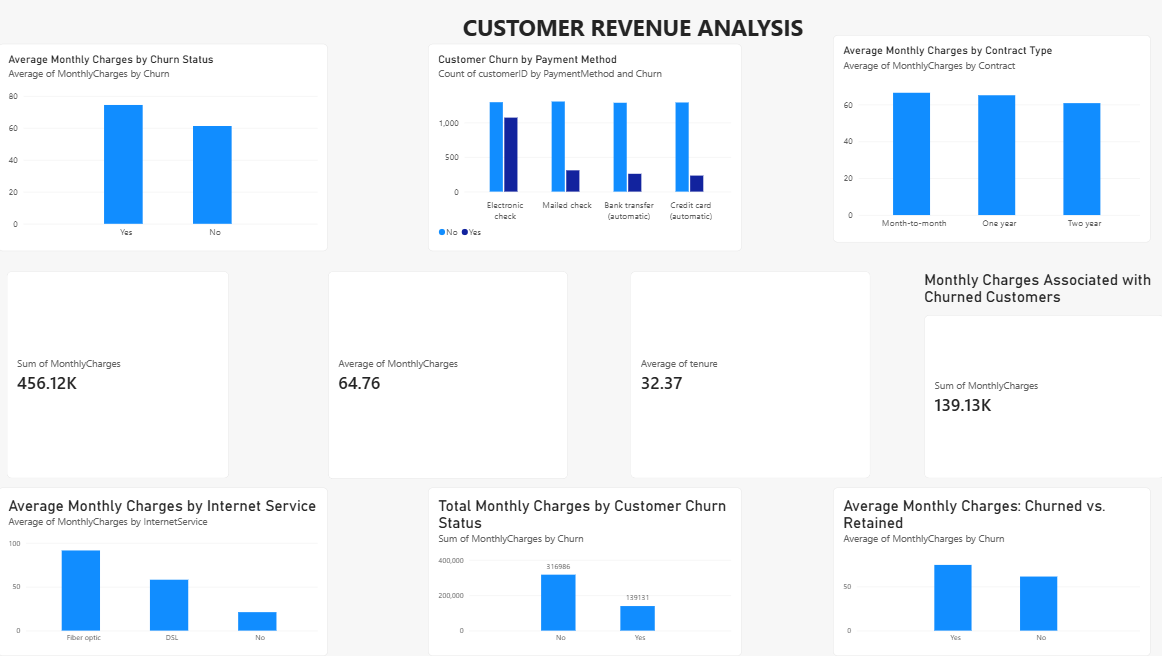

This screenshot's page, from the dashboard's own definition file:
{"tool":"powerbi","page":{"name":"CUSTOMER REVENUE ANALYSIS","canvas":[1920,1080],"ordinal":1},"visuals":[{"type":"clusteredColumnChart","title":"Average Monthly Charges by Churn Status","fields":{"Category":["telco_customer_churn_mysql.Churn"],"Y":["Avg(telco_customer_churn_mysql.MonthlyCharges)"]},"box":[0,72,543.4,341.7],"z":0},{"type":"clusteredColumnChart","title":"Customer Churn by Payment Method","fields":{"Category":["telco_customer_churn_mysql.PaymentMethod"],"Series":["telco_customer_churn_mysql.Churn"],"Y":["CountNonNull(telco_customer_churn_mysql.customerID)"]},"box":[708.1,72,516.6,341.7],"z":1000},{"type":"clusteredColumnChart","title":"Average Monthly Charges by Contract Type","fields":{"Category":["telco_customer_churn_mysql.Contract"],"Y":["Avg(telco_customer_churn_mysql.MonthlyCharges)"]},"box":[1375,57.6,522.8,341.7],"z":2000},{"type":"textbox","box":[368.4,18.5,1354.4,107],"z":2001},{"type":"cardVisual","fields":{"Data":["Sum(telco_customer_churn_mysql.MonthlyCharges)"]},"box":[14.4,446.7,366.4,341.7],"z":2002},{"type":"cardVisual","fields":{"Data":["Avg(telco_customer_churn_mysql.MonthlyCharges)"]},"box":[543.4,446.7,395,342],"z":2003},{"type":"cardVisual","fields":{"Data":["Avg(telco_customer_churn_mysql.tenure)"]},"box":[1041.5,446.7,395.2,341.7],"z":2004},{"type":"cardVisual","title":"Monthly Charges Associated with Churned Customers","fields":{"Data":["Sum(telco_customer_churn_mysql.MonthlyCharges)"]},"box":[1525.2,446.7,395.2,341.7],"z":2006},{"type":"clusteredColumnChart","title":"Average Monthly Charges by Internet Service","fields":{"Category":["telco_customer_churn_mysql.InternetService"],"Y":["Avg(telco_customer_churn_mysql.MonthlyCharges)"]},"box":[0,802.7,543.4,277.9],"z":2007},{"type":"clusteredColumnChart","title":"Total Monthly Charges by Customer Churn Status","fields":{"Category":["telco_customer_churn_mysql.Churn"],"Y":["Sum(telco_customer_churn_mysql.MonthlyCharges)"]},"box":[708.1,802.7,516.6,277.9],"z":2008},{"type":"clusteredColumnChart","title":"Average Monthly Charges: Churned vs. Retained","fields":{"Category":["telco_customer_churn_mysql.Churn"],"Y":["Avg(telco_customer_churn_mysql.MonthlyCharges)"]},"box":[1375,802.7,522.8,277.9],"z":2009}]}

Visuals, with their boxes in screenshot pixels (x1, y1, x2, y2), scaled from the page's 1920x1080 canvas onto the 1162x656 screenshot:
"Average Monthly Charges by Churn Status" clusteredColumnChart: BBox(0, 44, 329, 251)
"Customer Churn by Payment Method" clusteredColumnChart: BBox(429, 44, 741, 251)
"Average Monthly Charges by Contract Type" clusteredColumnChart: BBox(832, 35, 1149, 243)
textbox: BBox(223, 11, 1043, 76)
cardVisual - Sum(telco_customer_churn_mysql.MonthlyCharges): BBox(9, 271, 230, 479)
cardVisual - Avg(telco_customer_churn_mysql.MonthlyCharges): BBox(329, 271, 568, 479)
cardVisual - Avg(telco_customer_churn_mysql.tenure): BBox(630, 271, 870, 479)
"Monthly Charges Associated with Churned Customers" cardVisual: BBox(923, 271, 1161, 479)
"Average Monthly Charges by Internet Service" clusteredColumnChart: BBox(0, 488, 329, 655)
"Total Monthly Charges by Customer Churn Status" clusteredColumnChart: BBox(429, 488, 741, 655)
"Average Monthly Charges: Churned vs. Retained" clusteredColumnChart: BBox(832, 488, 1149, 655)
